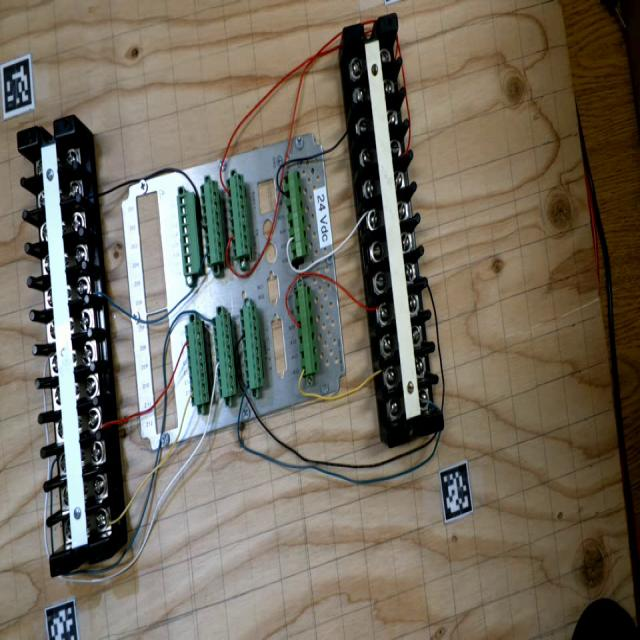Flathead_Block: (342, 13, 445, 448)
Phillips_Block: (16, 115, 111, 576)
Terminal_1: (283, 170, 309, 261), (294, 286, 320, 376)
Terminal_2: (212, 312, 238, 398), (184, 320, 209, 406), (226, 173, 251, 259), (200, 180, 225, 266), (240, 304, 264, 391)
